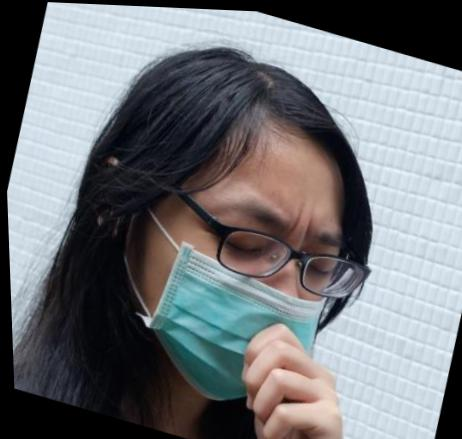WRONG: (118, 152, 360, 428)
